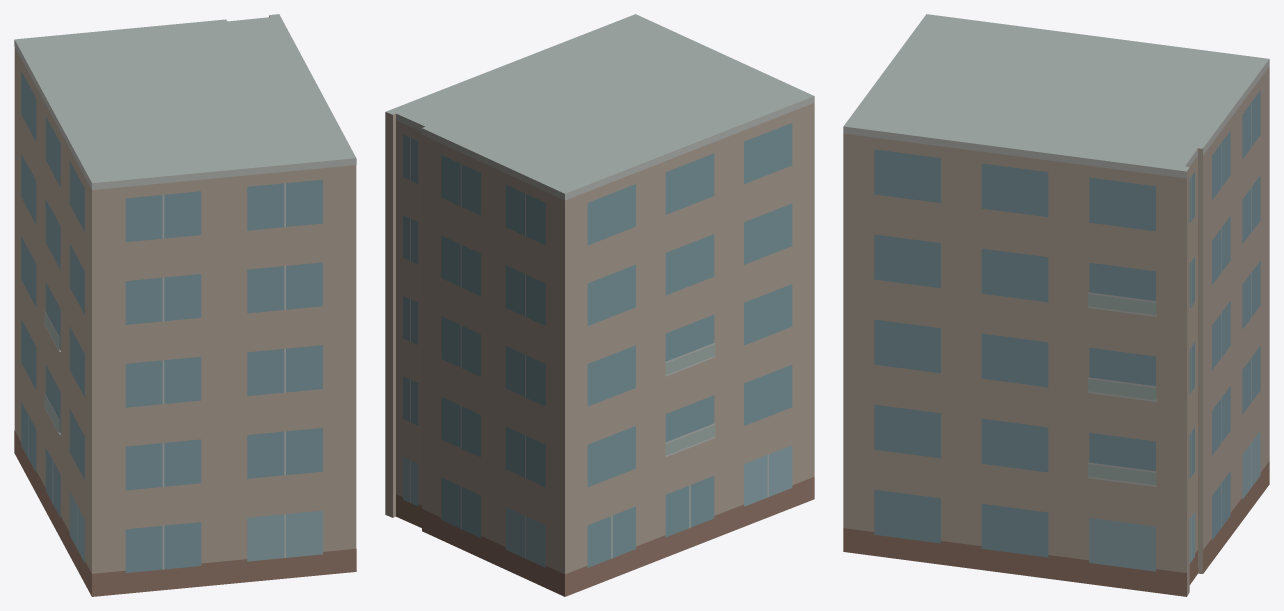
File: survey-upis-32944889.glb
3 views of the same model, side by side, from view 1: azimuth 30°, elevation 25°; view 2: azimuth 150°, elevation 25°; view 3: azimuth 270°, elevation 25° (orthographic). The views are drawn at different scales.
Parts seen in each view (by area): view 1: survey-upis-32944889.tmp; view 2: survey-upis-32944889.tmp; view 3: survey-upis-32944889.tmp.
Boxes of the visible parts, left/top/right/bottom form: survey-upis-32944889.tmp: left=14, top=14, right=356, bottom=596; survey-upis-32944889.tmp: left=385, top=14, right=814, bottom=596; survey-upis-32944889.tmp: left=843, top=14, right=1269, bottom=596.
Bounding box in the file's own units: 11.76 × 14.8 × 13.45.
